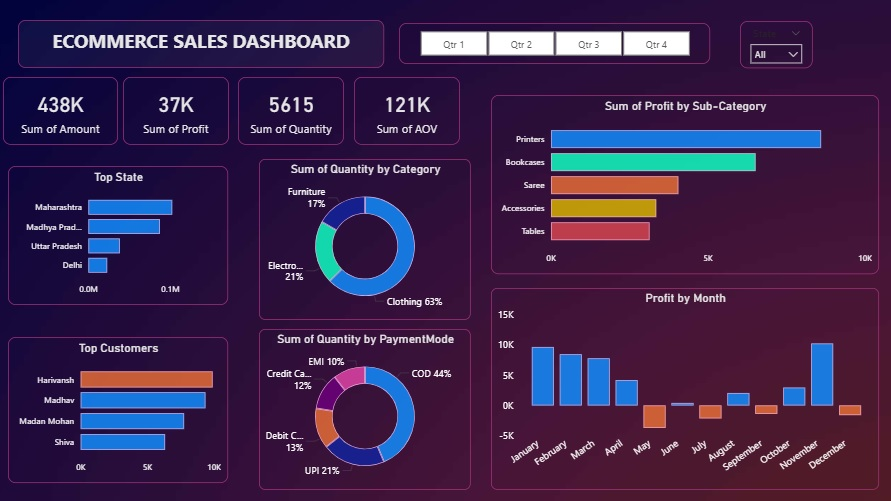

The dashboard page shown, as its layout file describes it:
{"tool":"powerbi","page":{"name":"Page 1","canvas":[1280,720],"ordinal":0},"visuals":[{"type":"columnChart","title":"Profit by Month","fields":{"Y":["Details.Profit"],"Category":["Orders.Order Date.Variation.Date Hierarchy.Month"]},"box":[703,418.1,549.9,286.3],"z":0},{"type":"barChart","fields":{"Category":["Details.Sub-Category"],"Y":["Details.Profit"]},"box":[703,144.6,549.9,253.7],"z":1000},{"type":"donutChart","fields":{"Category":["Details.Category"],"Y":["Details.Quantity"]},"box":[374.2,235.3,300.5,228.2],"z":2000},{"type":"donutChart","fields":{"Y":["Details.Quantity"],"Category":["Details.PaymentMode"]},"box":[374.2,476.2,300.5,228.2],"z":3000},{"type":"textbox","box":[32.6,38.3,518.7,68],"z":4000},{"type":"card","fields":{"Values":["Details.Amount"]},"box":[11.3,119.1,163,96.4],"z":5000},{"type":"card","fields":{"Values":["Details.Profit"]},"box":[181.4,119.1,150.2,96.4],"z":6000},{"type":"card","fields":{"Values":["Details.Quantity"]},"box":[344.4,119.1,150.2,96.4],"z":7000},{"type":"card","fields":{"Values":["Details.AOV"]},"box":[508.8,119.1,150.2,96.4],"z":8000},{"type":"barChart","title":"Top State","fields":{"Category":["Orders.State"],"Y":["Details.Amount"]},"box":[18.4,245.2,311.8,197],"z":9000},{"type":"barChart","title":"Top Customers","fields":{"Category":["Orders.CustomerName"],"Y":["Details.Amount"]},"box":[18.4,487.6,311.8,206.9],"z":10000},{"type":"slicer","fields":{"Values":["Orders.Order Date.Variation.Date Hierarchy.Quarter"]},"box":[572.6,42.5,440.8,58.1],"z":11000},{"type":"slicer","fields":{"Values":["Orders.State"]},"box":[1055.9,39.7,103.5,66.6],"z":12000}]}

Visuals, with their boxes in screenshot pixels (x1, y1, x2, y2), scaled from the page's 1280x720 canvas onto the 891x501 screenshot:
"Profit by Month" columnChart: box(489, 291, 872, 490)
barChart - Details.Sub-Category x Details.Profit: box(489, 101, 872, 277)
donutChart - Details.Category x Details.Quantity: box(260, 164, 470, 323)
donutChart - Details.Quantity x Details.PaymentMode: box(260, 331, 470, 490)
textbox: box(23, 27, 384, 74)
card - Details.Amount: box(8, 83, 121, 150)
card - Details.Profit: box(126, 83, 231, 150)
card - Details.Quantity: box(240, 83, 344, 150)
card - Details.AOV: box(354, 83, 459, 150)
"Top State" barChart: box(13, 171, 230, 308)
"Top Customers" barChart: box(13, 339, 230, 483)
slicer - Orders.Order Date.Variation.Date Hierarchy.Quarter: box(399, 30, 705, 70)
slicer - Orders.State: box(735, 28, 807, 74)
